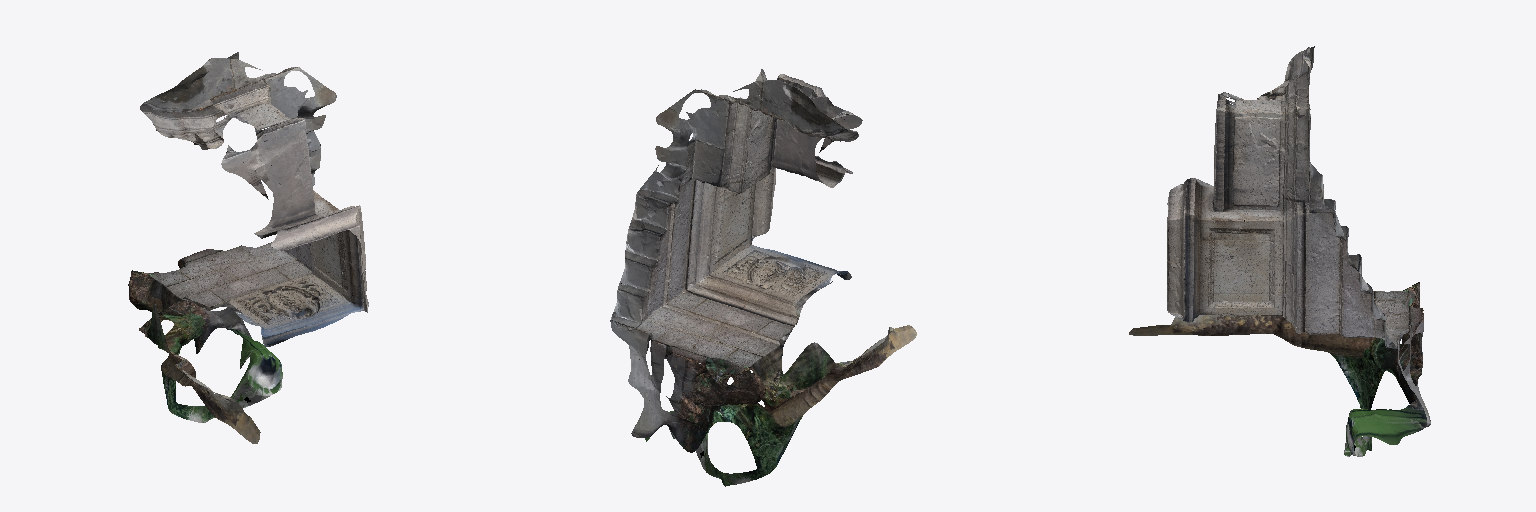
3 renders of one model, left to right at view 1: azimuth 30°, elevation 25°; view 2: azimuth 150°, elevation 25°; view 3: azimuth 270°, elevation 25°, orthographic.
Size of the model in its own units: 32.49 by 60.74 by 42.25.
1 materials, 1 textured.